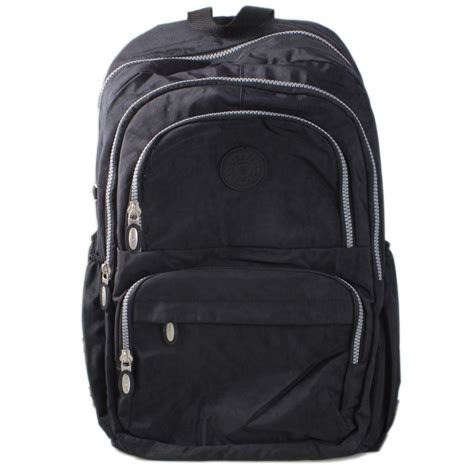nylon: (83, 7, 402, 463)
